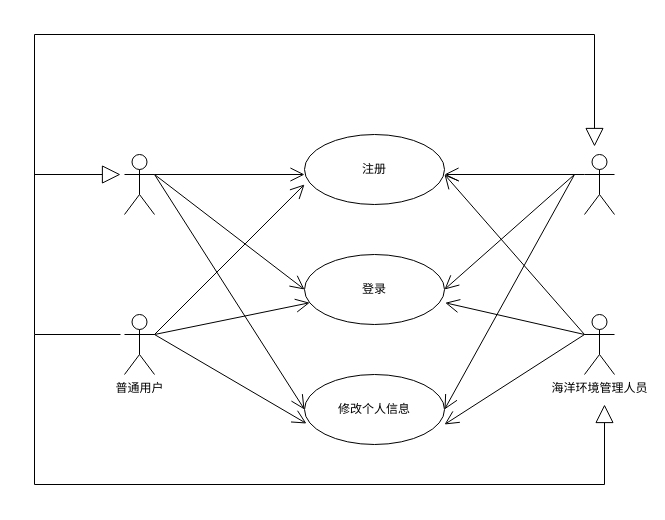
Image size: 665x520. Some labels were removed from this diagram. The centre of each missing label's shape, as x and y in pixels:
"渔业从业人员" goes at (x=139, y=184).
"渔业管理人员" goes at (x=599, y=184).
